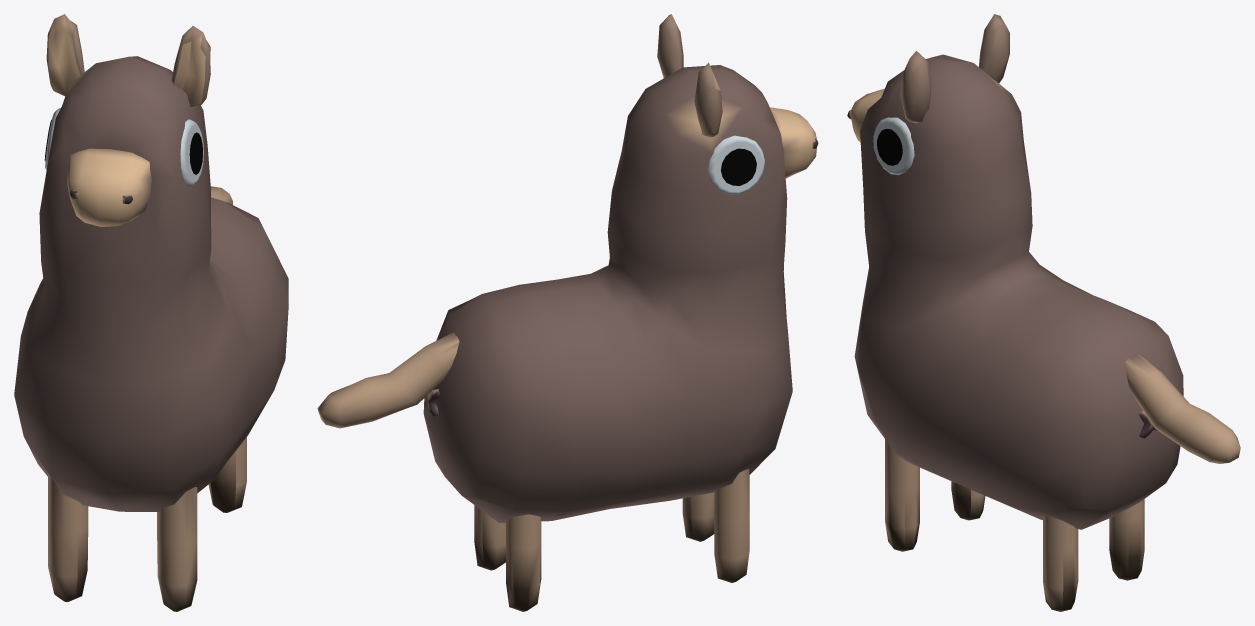
Rendered from Alpaca.glb.
The picture shows the model from 3 angles, left to right: view 1: azimuth 30°, elevation 25°; view 2: azimuth 150°, elevation 25°; view 3: azimuth 270°, elevation 25°; orthographic projection. The views are drawn at different scales.
Parts seen in each view (by area): view 1: 1; view 2: 1; view 3: 1.
Part boxes in pixels (x1,y1,x2,y2): 1: (14,14,288,611); 1: (317,14,818,611); 1: (847,14,1240,611).
Bounding box in the file's own units: 0.7815 × 1.23 × 0.8572.
